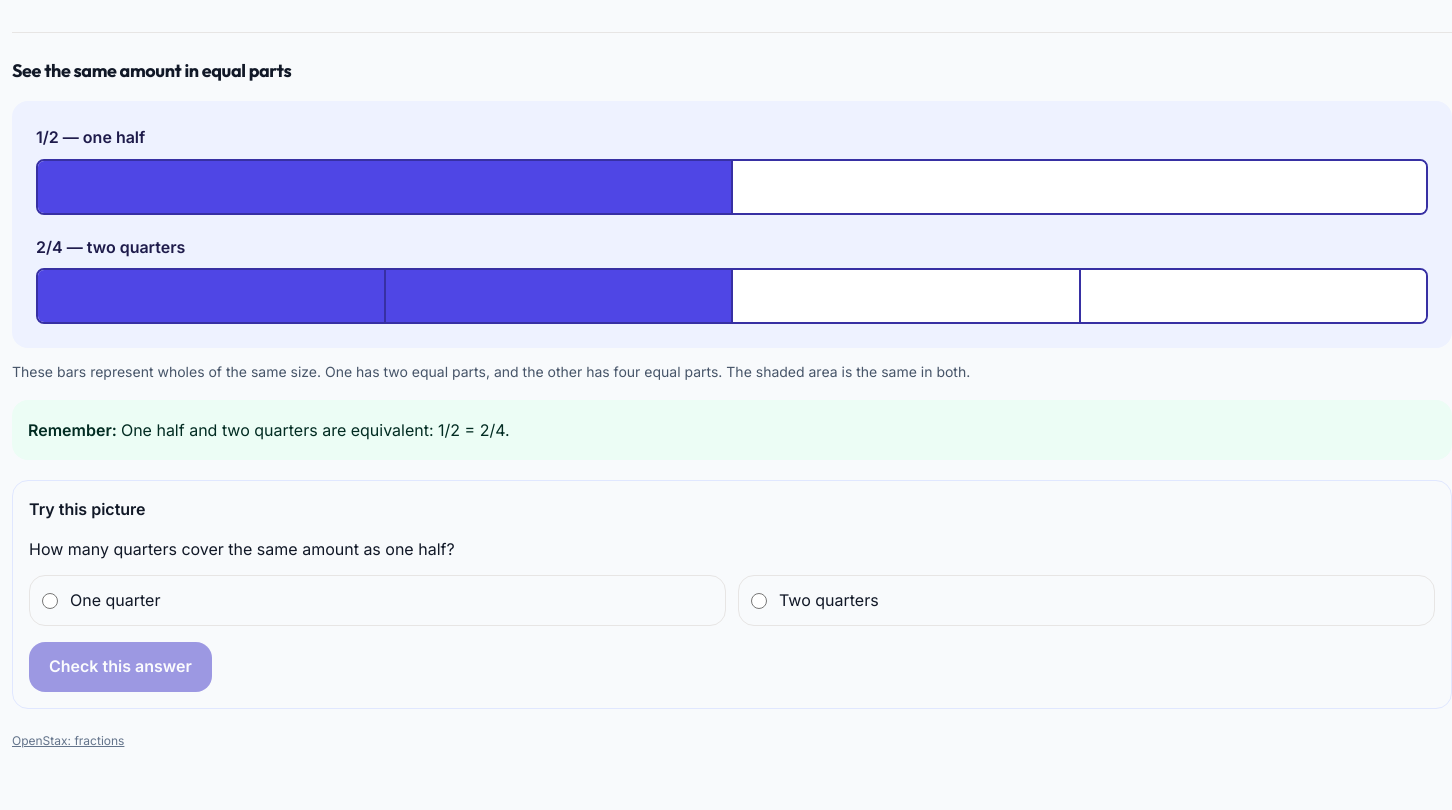
shared lesson visuals › requires an attempt, gives explanatory feedback and lets the learner retry
Check: the button "Check this answer" is disabled, box [29, 642, 212, 692]
Click the radio button labelled "One quarter". click: (50, 601)
box: [42, 593, 58, 609]
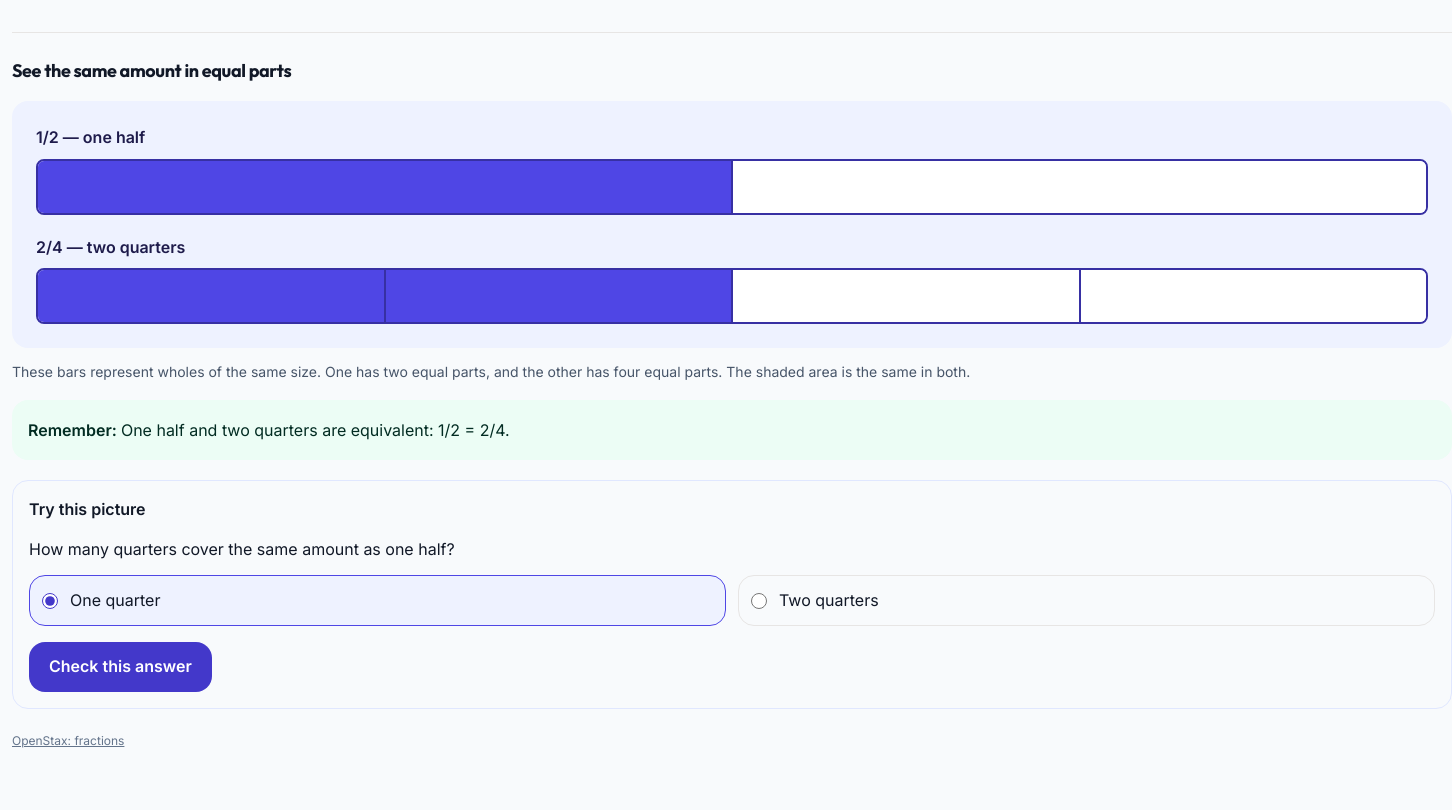
Click the button "Check this answer". click: (120, 667)
box: [29, 642, 212, 692]
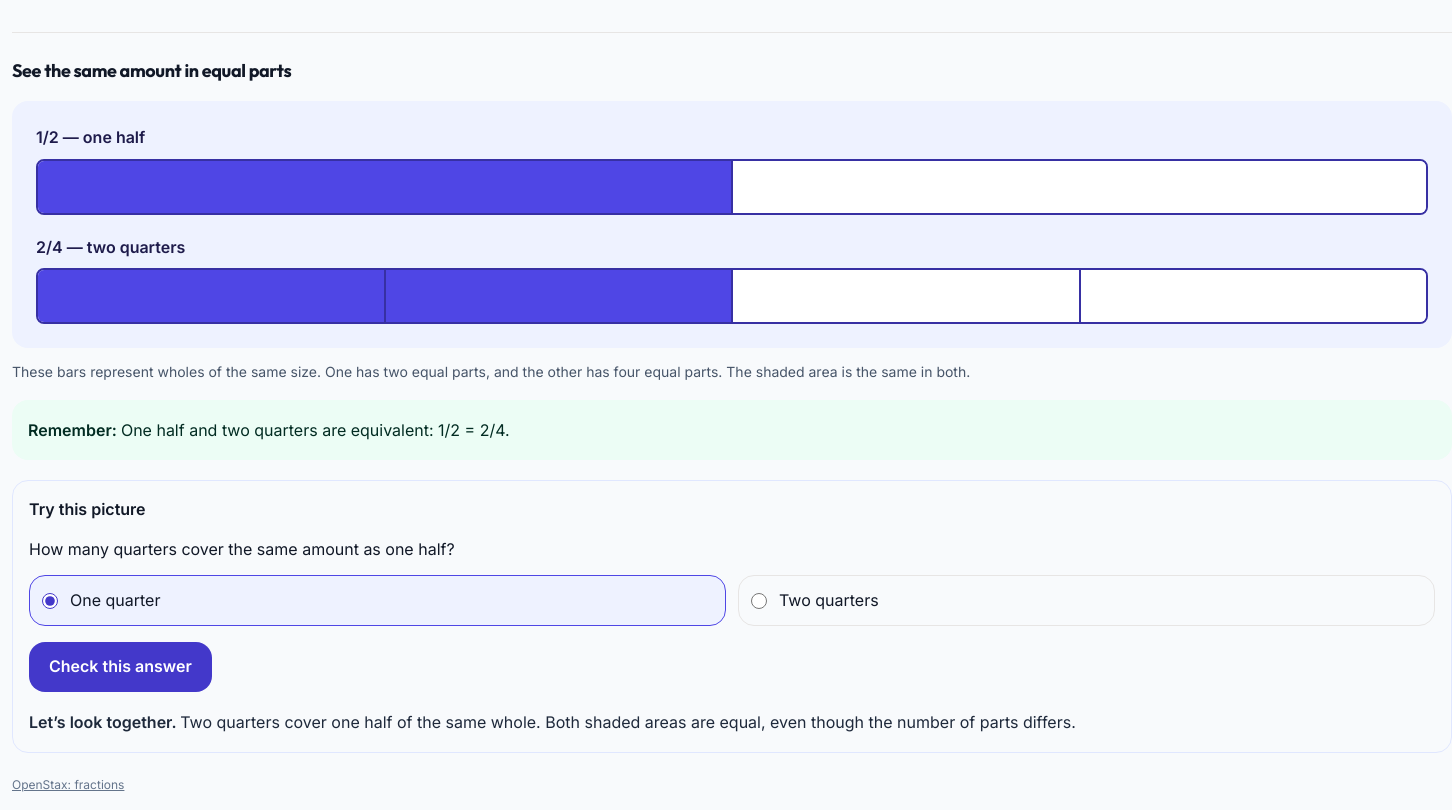
Check: the message shows "Let’s look together.", box [29, 712, 180, 732]
Check: the message shows "Two quarters cover one half", box [180, 712, 1076, 732]
Click the radio button labelled "Two quarters". click: (759, 601)
box: [751, 593, 767, 609]
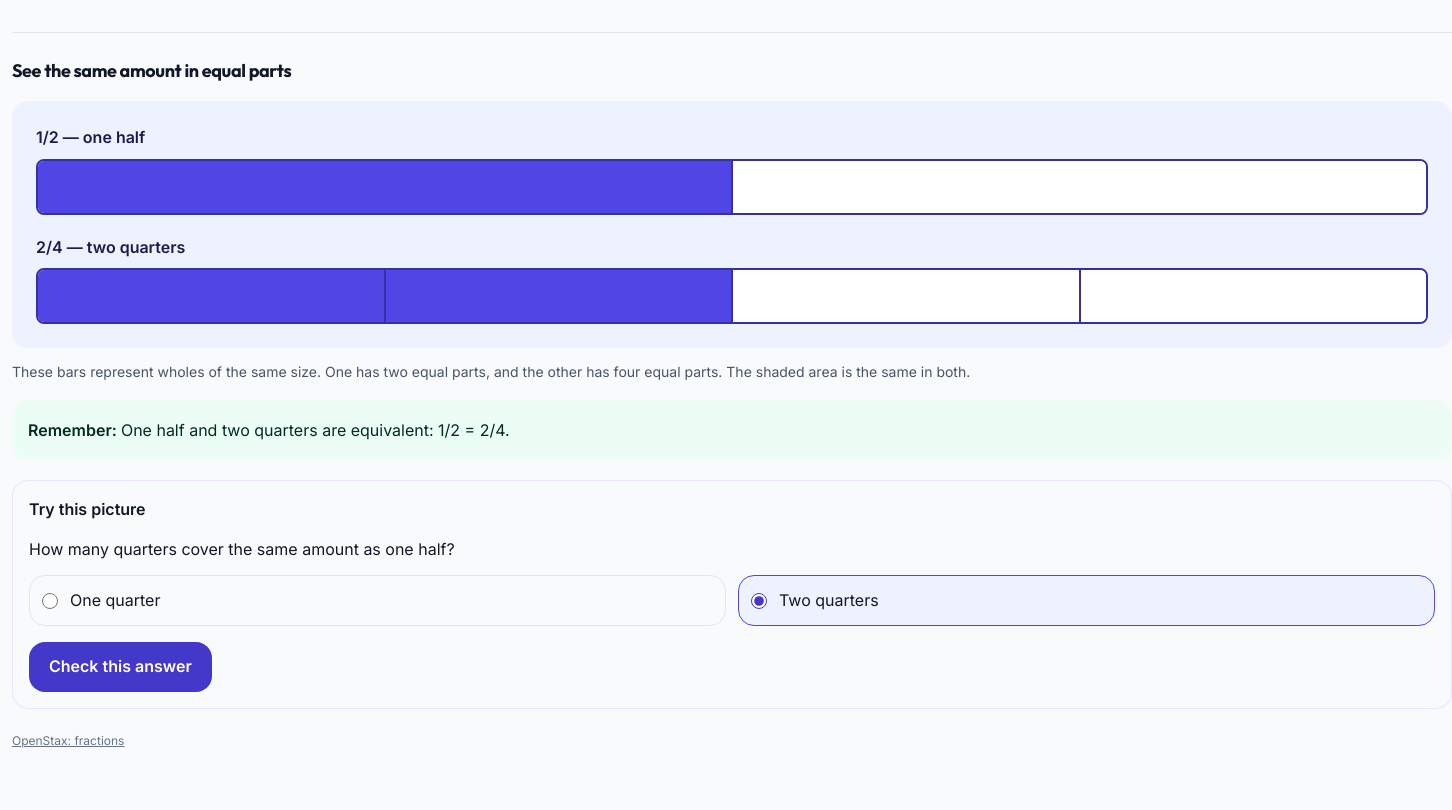
Click the button "Check this answer". click: (120, 667)
box: [29, 642, 212, 692]
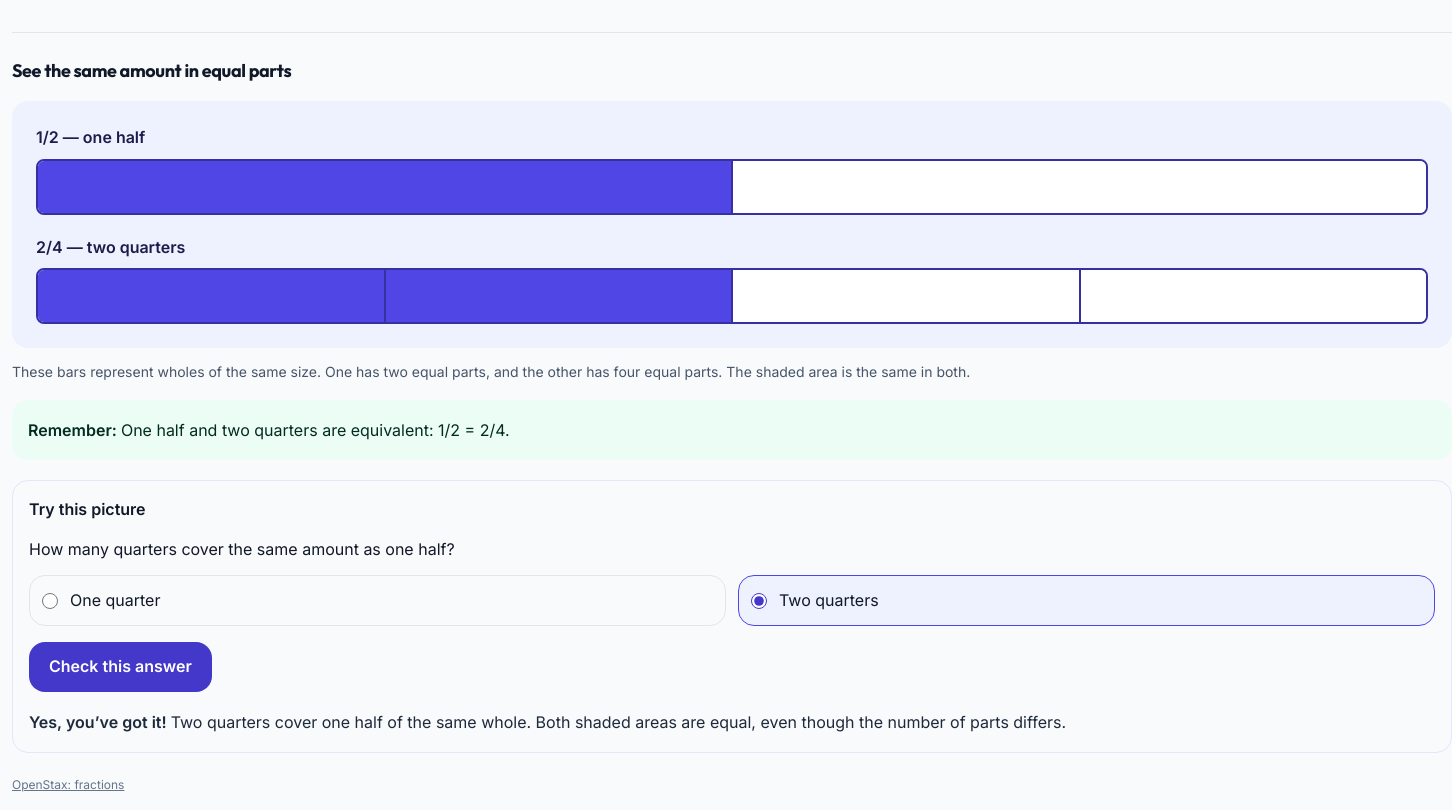
Check: the message shows "Yes, you’ve got it!", box [29, 712, 171, 732]
